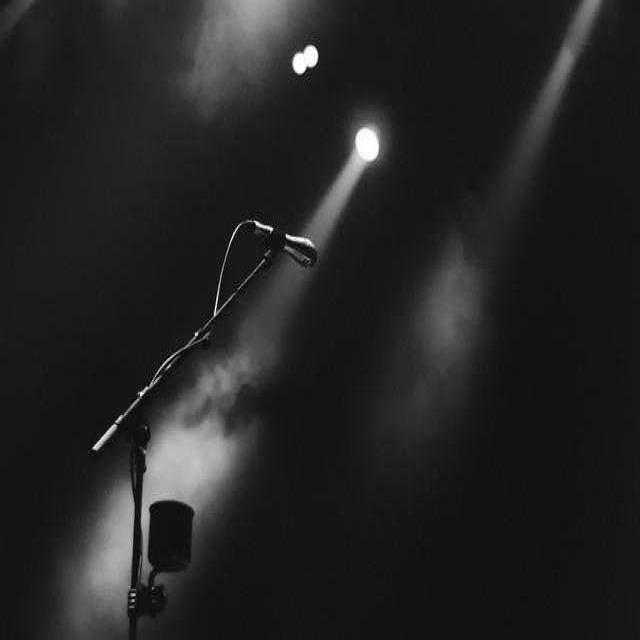microphone: (258, 221, 318, 267)
